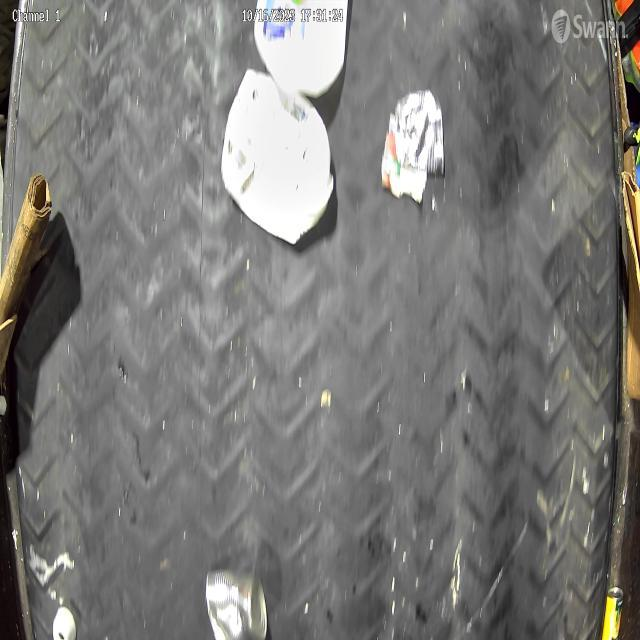can: (200, 557, 270, 640), (389, 88, 442, 182)
milk_jug: (223, 58, 334, 264), (252, 0, 352, 105)
